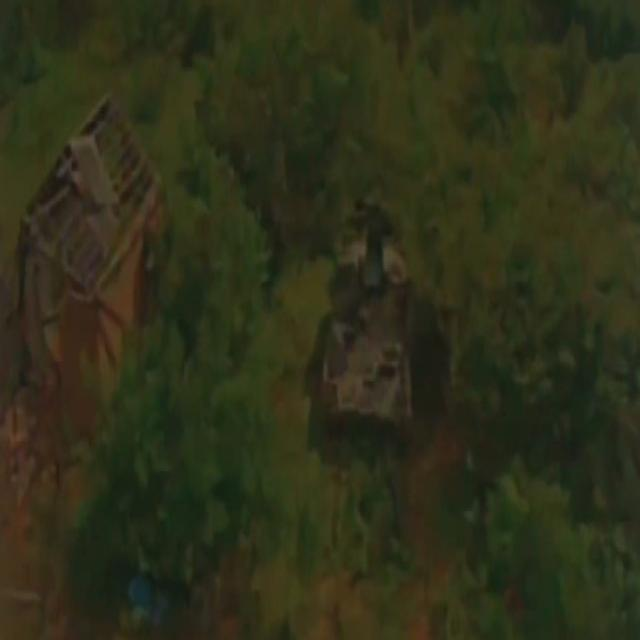MLRS: (307, 193, 423, 447)
